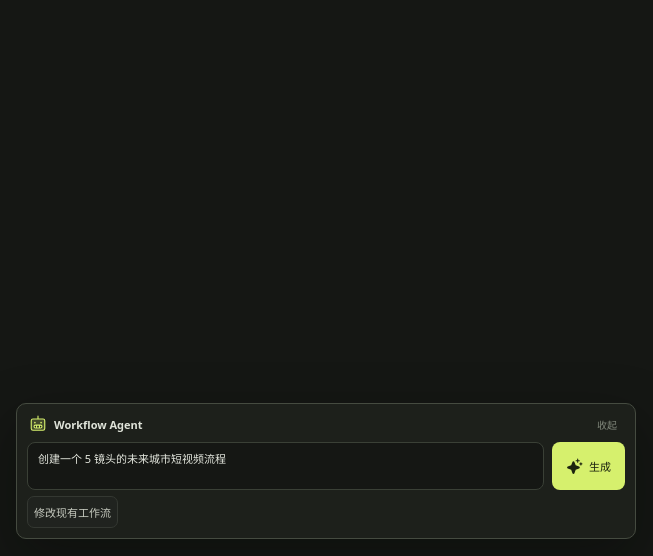
AgentComposer › shows validation errors in preview when can_apply is false
Step 1. Click the button "生成" → [588, 466], box top-left (552, 442), bottom-right (625, 490)
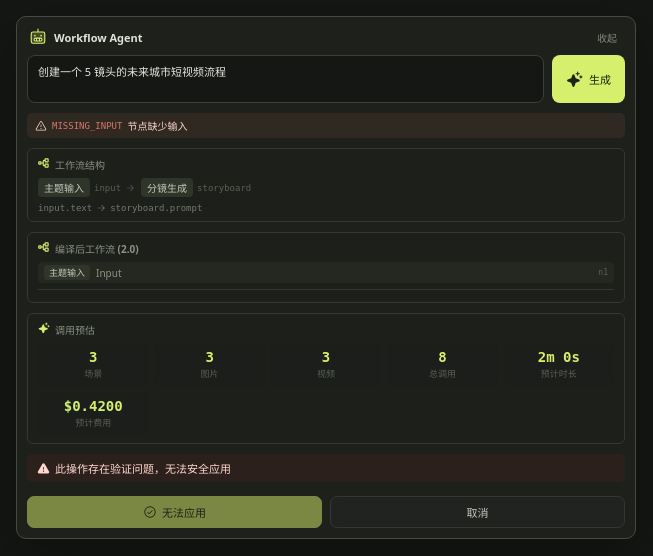
Now the text "MISSING_INPUT" is shown, box top-left (52, 120), bottom-right (122, 130)
Now the text "节点缺少输入" is shown, box top-left (128, 119), bottom-right (188, 133)
Now the button "无法应用" is shown, box top-left (27, 496), bottom-right (322, 528)
